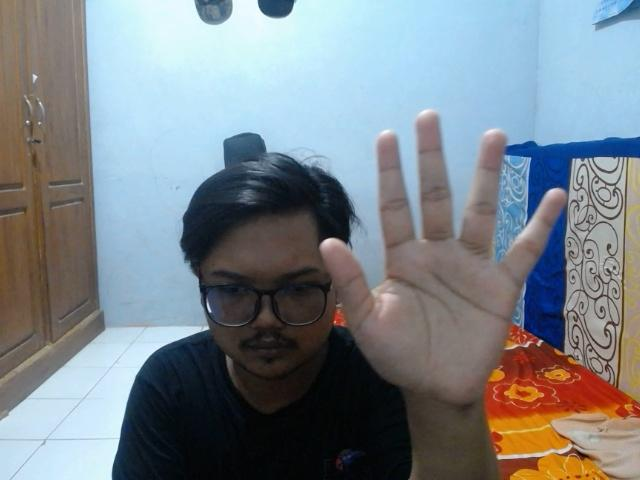Release: (313, 106, 576, 418)
